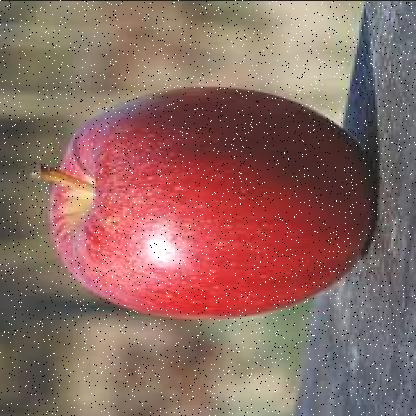apple: (66, 85, 375, 313)
